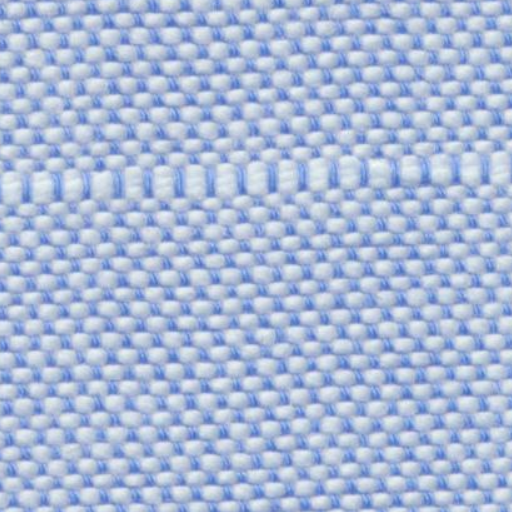TuoSha: (20, 131, 489, 236)
